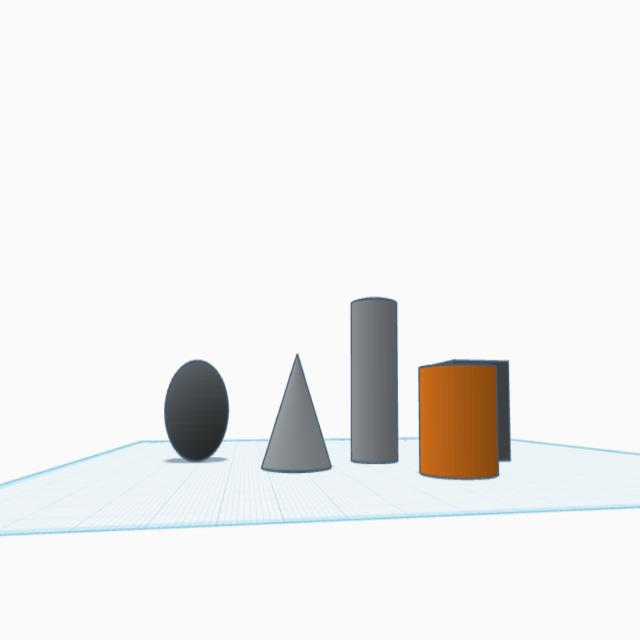cone: (258, 346, 334, 477)
sphere: (164, 352, 229, 463)
